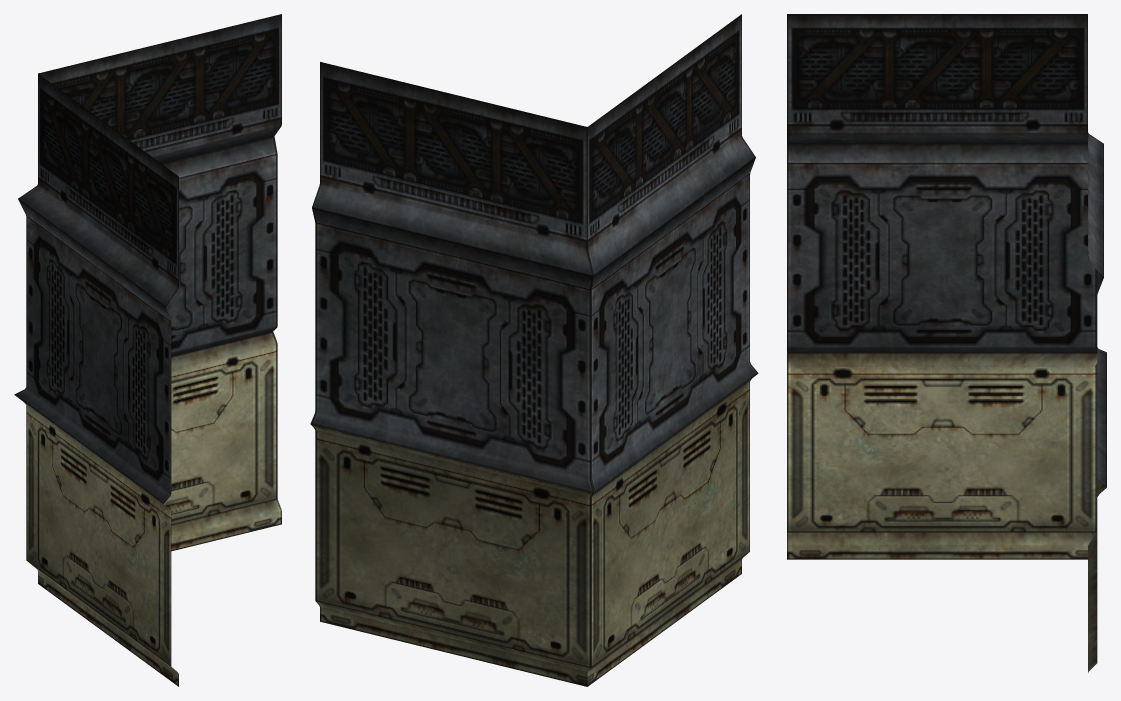
The model's file is living_area_flat02_corner_concave.dae.
3 renders of one model, left to right at view 1: azimuth 30°, elevation 25°; view 2: azimuth 150°, elevation 25°; view 3: azimuth 270°, elevation 25°, orthographic. The views are drawn at different scales.
Parts seen in each view (by area): view 1: polySurface7; view 2: polySurface7; view 3: polySurface7.
Boxes of the visible parts, bbox=[...] form: polySurface7: bbox=[14, 14, 281, 686]; polySurface7: bbox=[310, 14, 758, 686]; polySurface7: bbox=[787, 14, 1106, 672].
Size of the model in its own units: 2.13 by 4 by 2.13.
